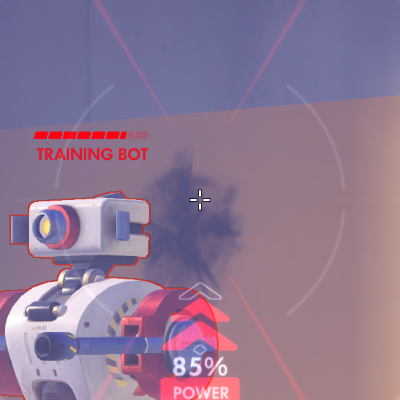hpbar: (33, 130, 149, 140)
